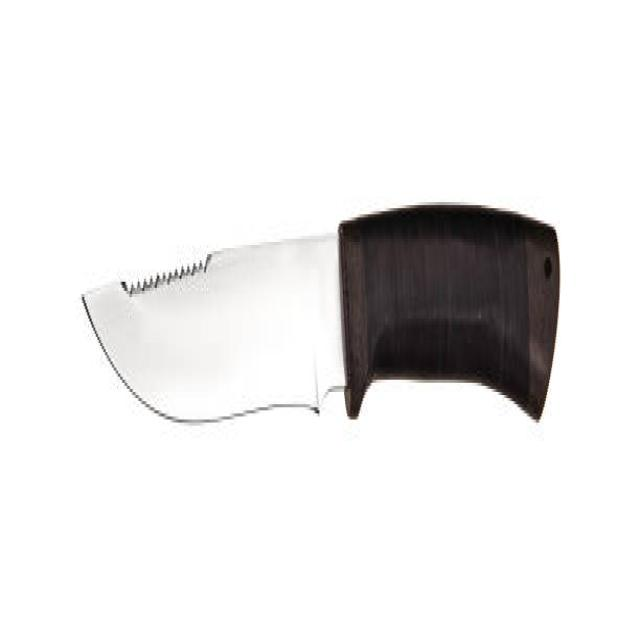knife: (63, 174, 566, 498)
